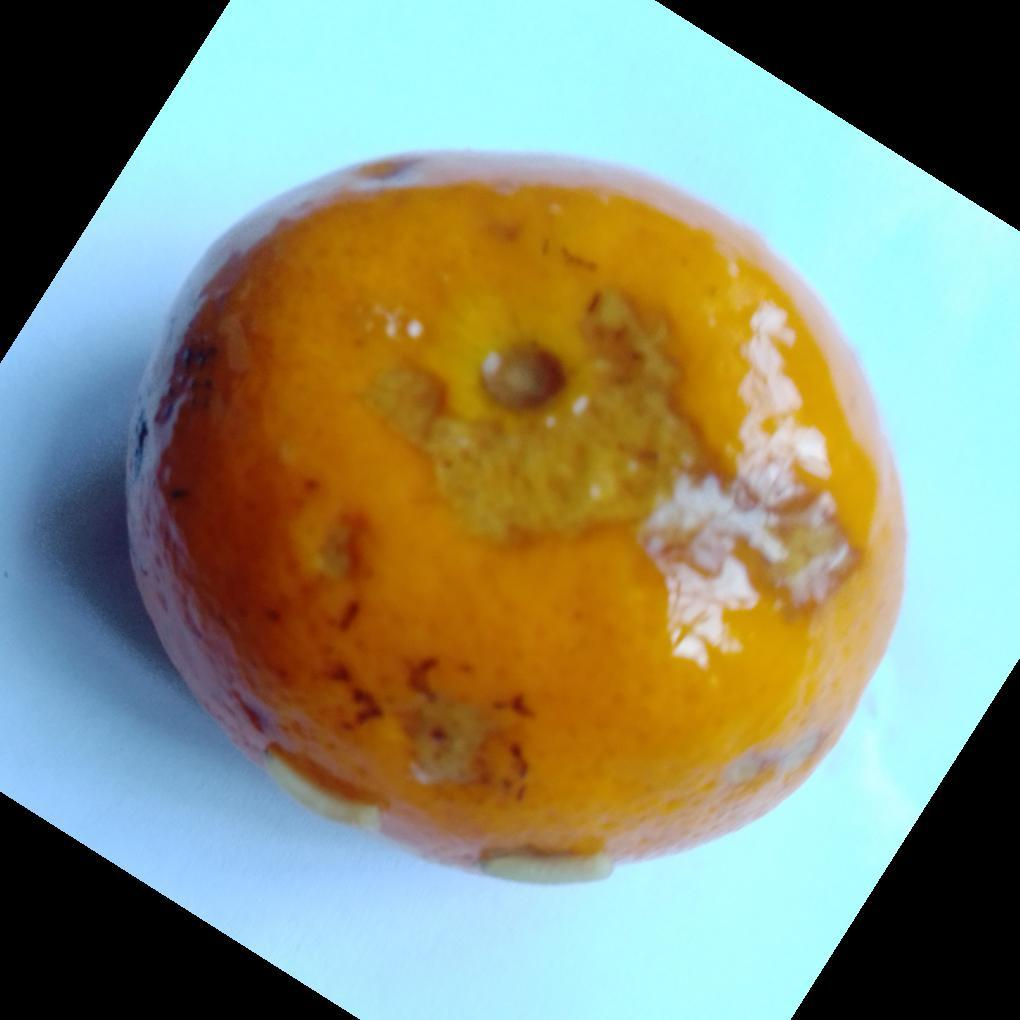FreshOrange: (124, 153, 909, 887)
